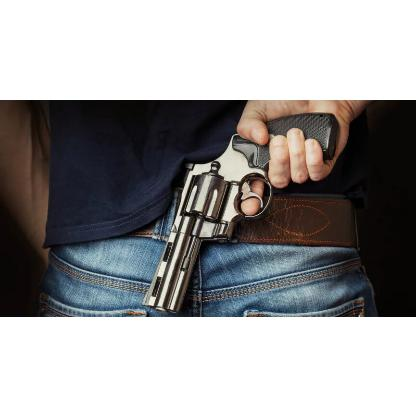gun: (137, 112, 337, 306)
